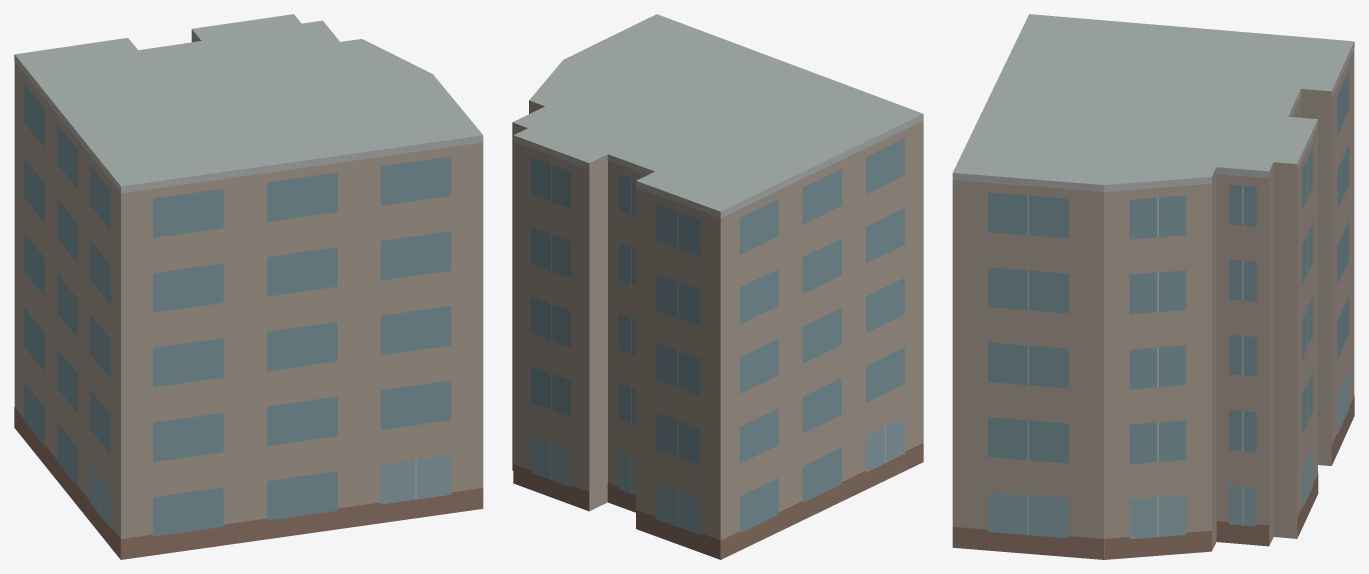
The model's file is survey-upis-32529110.glb.
3 renders of one model, left to right at view 1: azimuth 30°, elevation 25°; view 2: azimuth 150°, elevation 25°; view 3: azimuth 270°, elevation 25°, orthographic. The views are drawn at different scales.
Parts seen in each view (by area): view 1: survey-upis-32529110.tmp; view 2: survey-upis-32529110.tmp; view 3: survey-upis-32529110.tmp.
Boxes of the visible parts, x1,y1,x2,y2 form: survey-upis-32529110.tmp: (14,14,483,559); survey-upis-32529110.tmp: (512,14,923,559); survey-upis-32529110.tmp: (952,14,1354,559).
Bounding box in the file's own units: 12.75 × 13.01 × 12.65.
